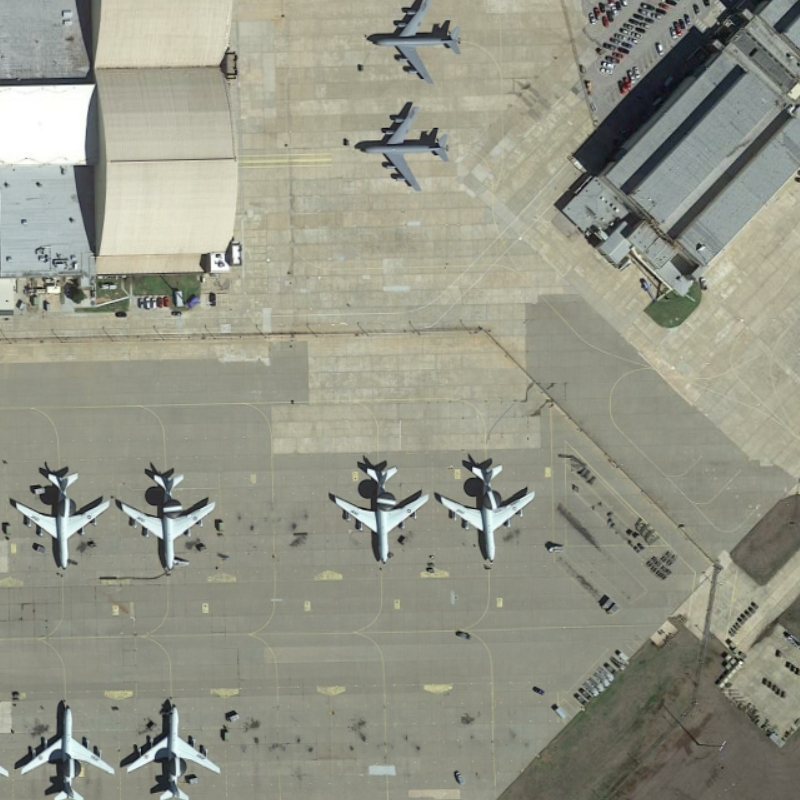A14: (346, 94, 459, 195), (355, 1, 472, 91)
A7: (323, 455, 431, 572), (115, 466, 226, 578), (117, 687, 224, 800), (8, 459, 112, 572), (10, 695, 120, 800), (437, 450, 535, 566)
